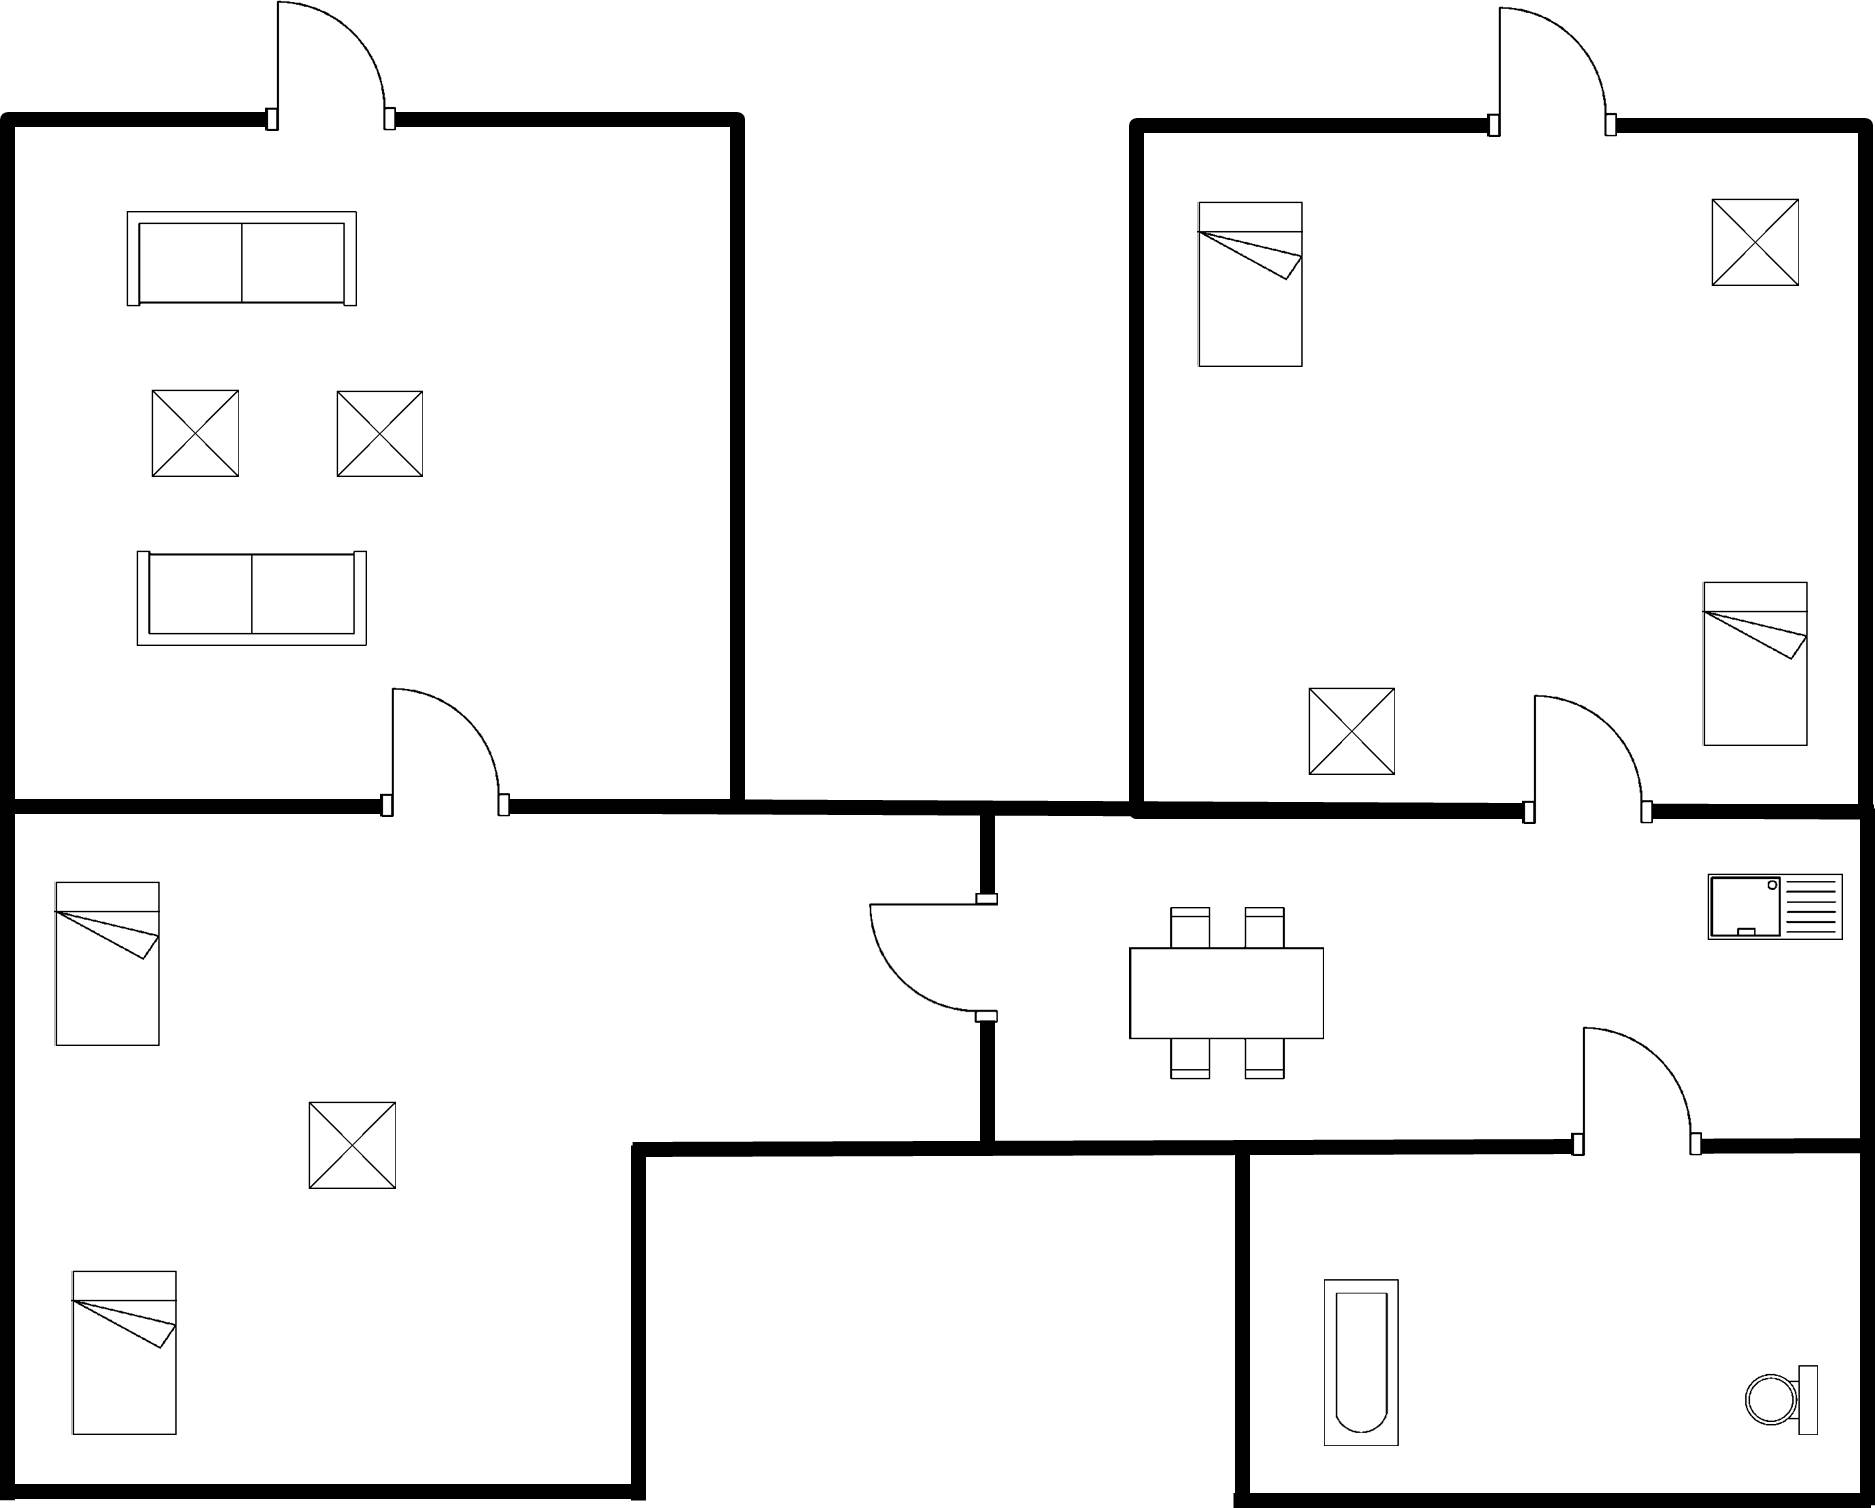bed: (1689, 570, 1823, 757), (1183, 189, 1311, 380), (41, 874, 170, 1058), (58, 1260, 188, 1445)
coffee_table: (142, 382, 258, 494), (1698, 189, 1814, 299), (302, 1085, 411, 1201), (326, 383, 436, 491), (1297, 676, 1407, 782)
dining_table: (1116, 899, 1341, 1095)
large_sink: (1736, 1354, 1835, 1449)
large_sofa: (113, 196, 372, 323), (130, 539, 377, 666)
sink: (1697, 864, 1854, 951)
tub: (1307, 1266, 1411, 1464)
